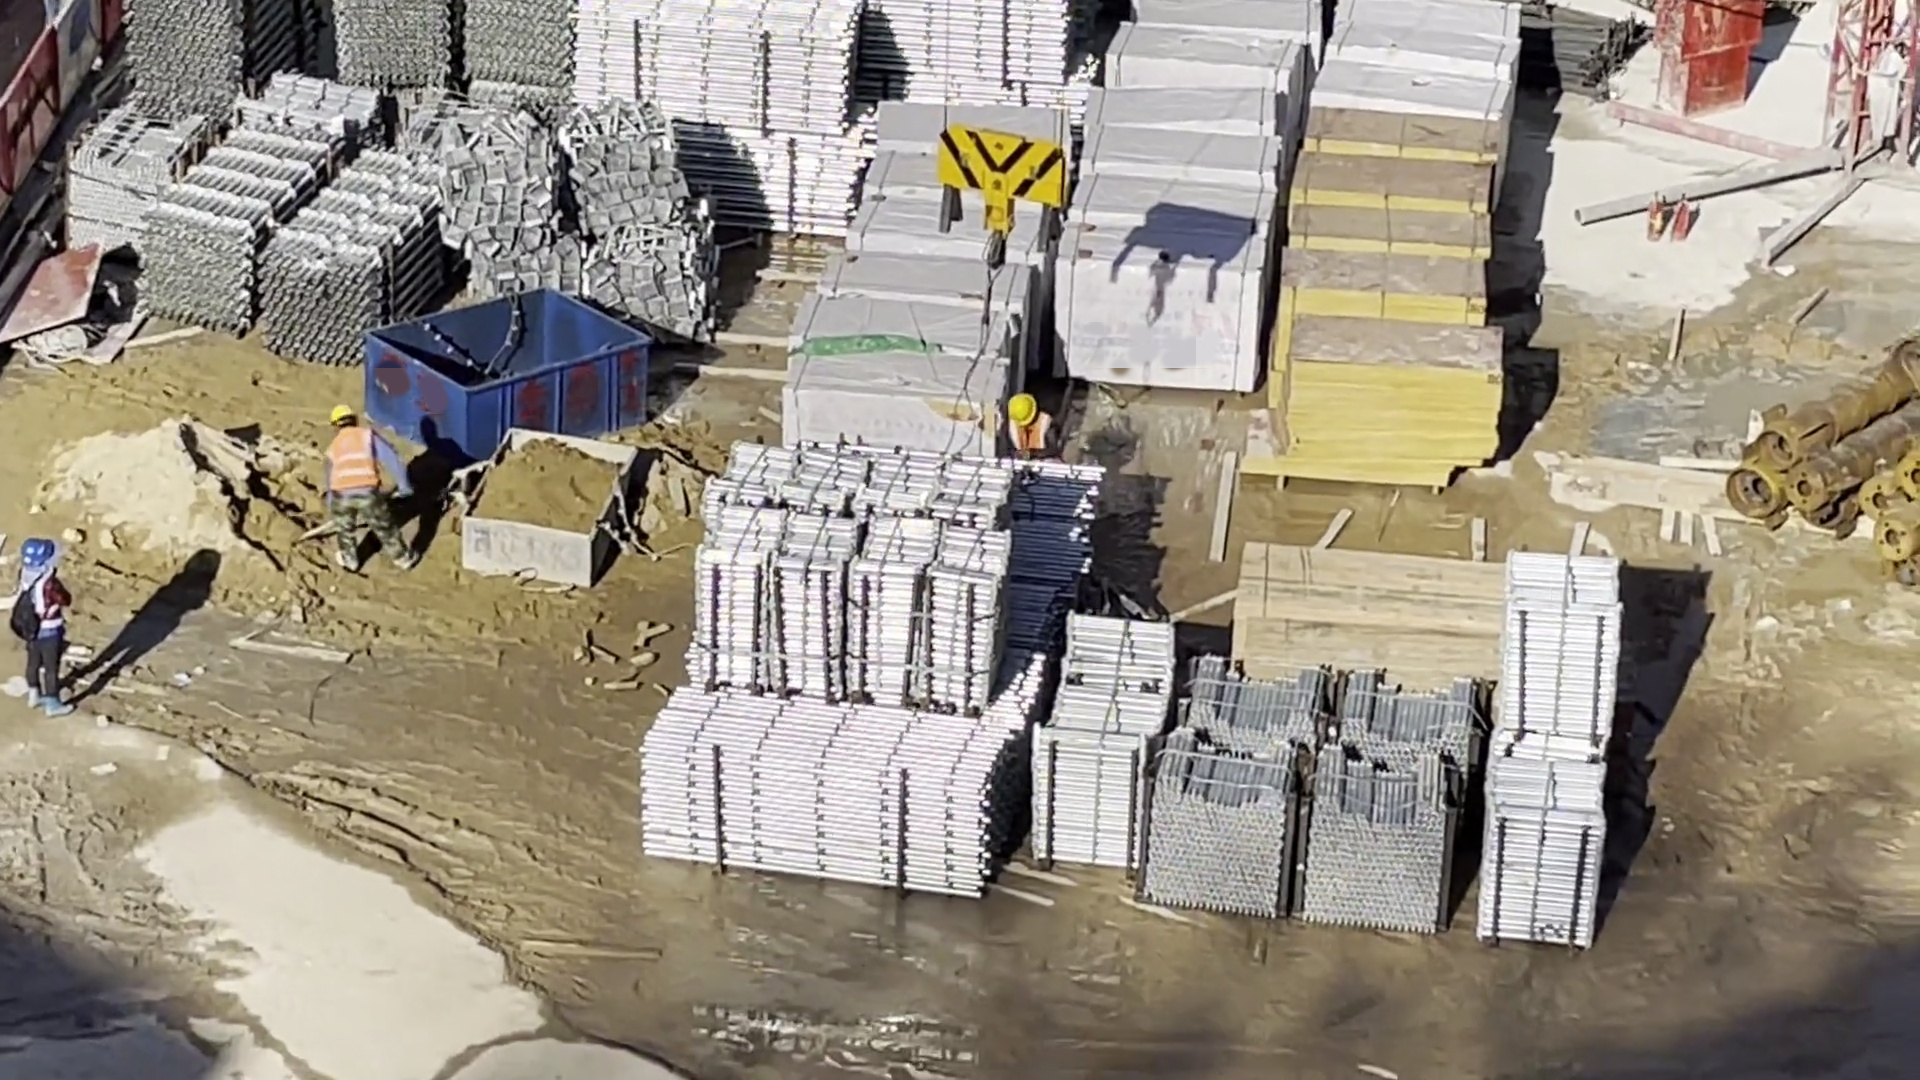helmet: (993, 381, 1041, 425), (16, 532, 61, 575), (330, 389, 365, 432)
hook: (930, 106, 1079, 266)
hopper: (360, 276, 662, 443), (453, 427, 639, 578)
person: (8, 531, 92, 728), (311, 415, 406, 590), (971, 382, 1070, 466)
scaffold: (710, 427, 1143, 912), (579, 3, 1059, 233), (1195, 653, 1486, 920), (1510, 547, 1633, 948), (227, 98, 390, 335), (333, 1, 555, 131), (94, 1, 253, 117)
vest: (328, 432, 381, 480), (1013, 422, 1046, 446)
